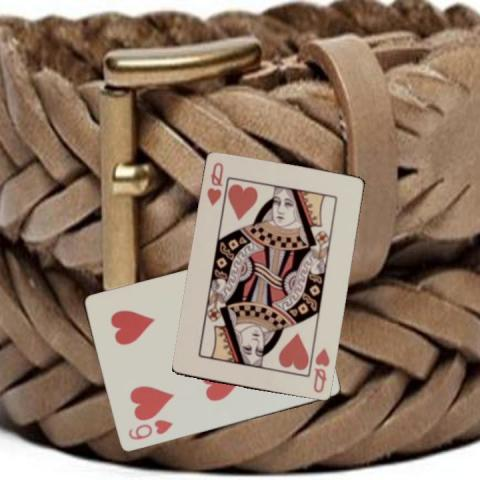6h: (125, 417, 174, 442)
Qh: (204, 159, 225, 208), (311, 344, 331, 394)
